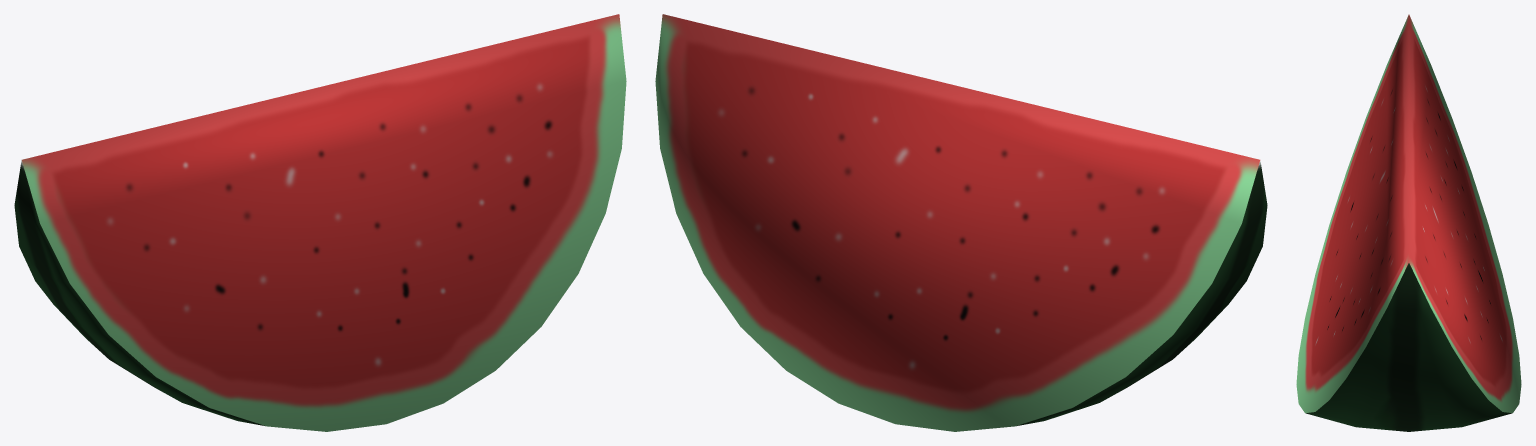
File: Fruit.fbx
The picture shows the model from 3 angles, left to right: view 1: azimuth 30°, elevation 25°; view 2: azimuth 150°, elevation 25°; view 3: azimuth 270°, elevation 25°; orthographic projection. The views are drawn at different scales.
Parts seen in each view (by area): view 1: Sphere; view 2: Sphere; view 3: Sphere.
Part boxes in pixels (<box>): Sphere: <box>14,14,626,431</box>; Sphere: <box>655,14,1267,431</box>; Sphere: <box>1296,14,1521,431</box>.
Size of the model in its own units: 22.74 by 11.37 by 8.7.
